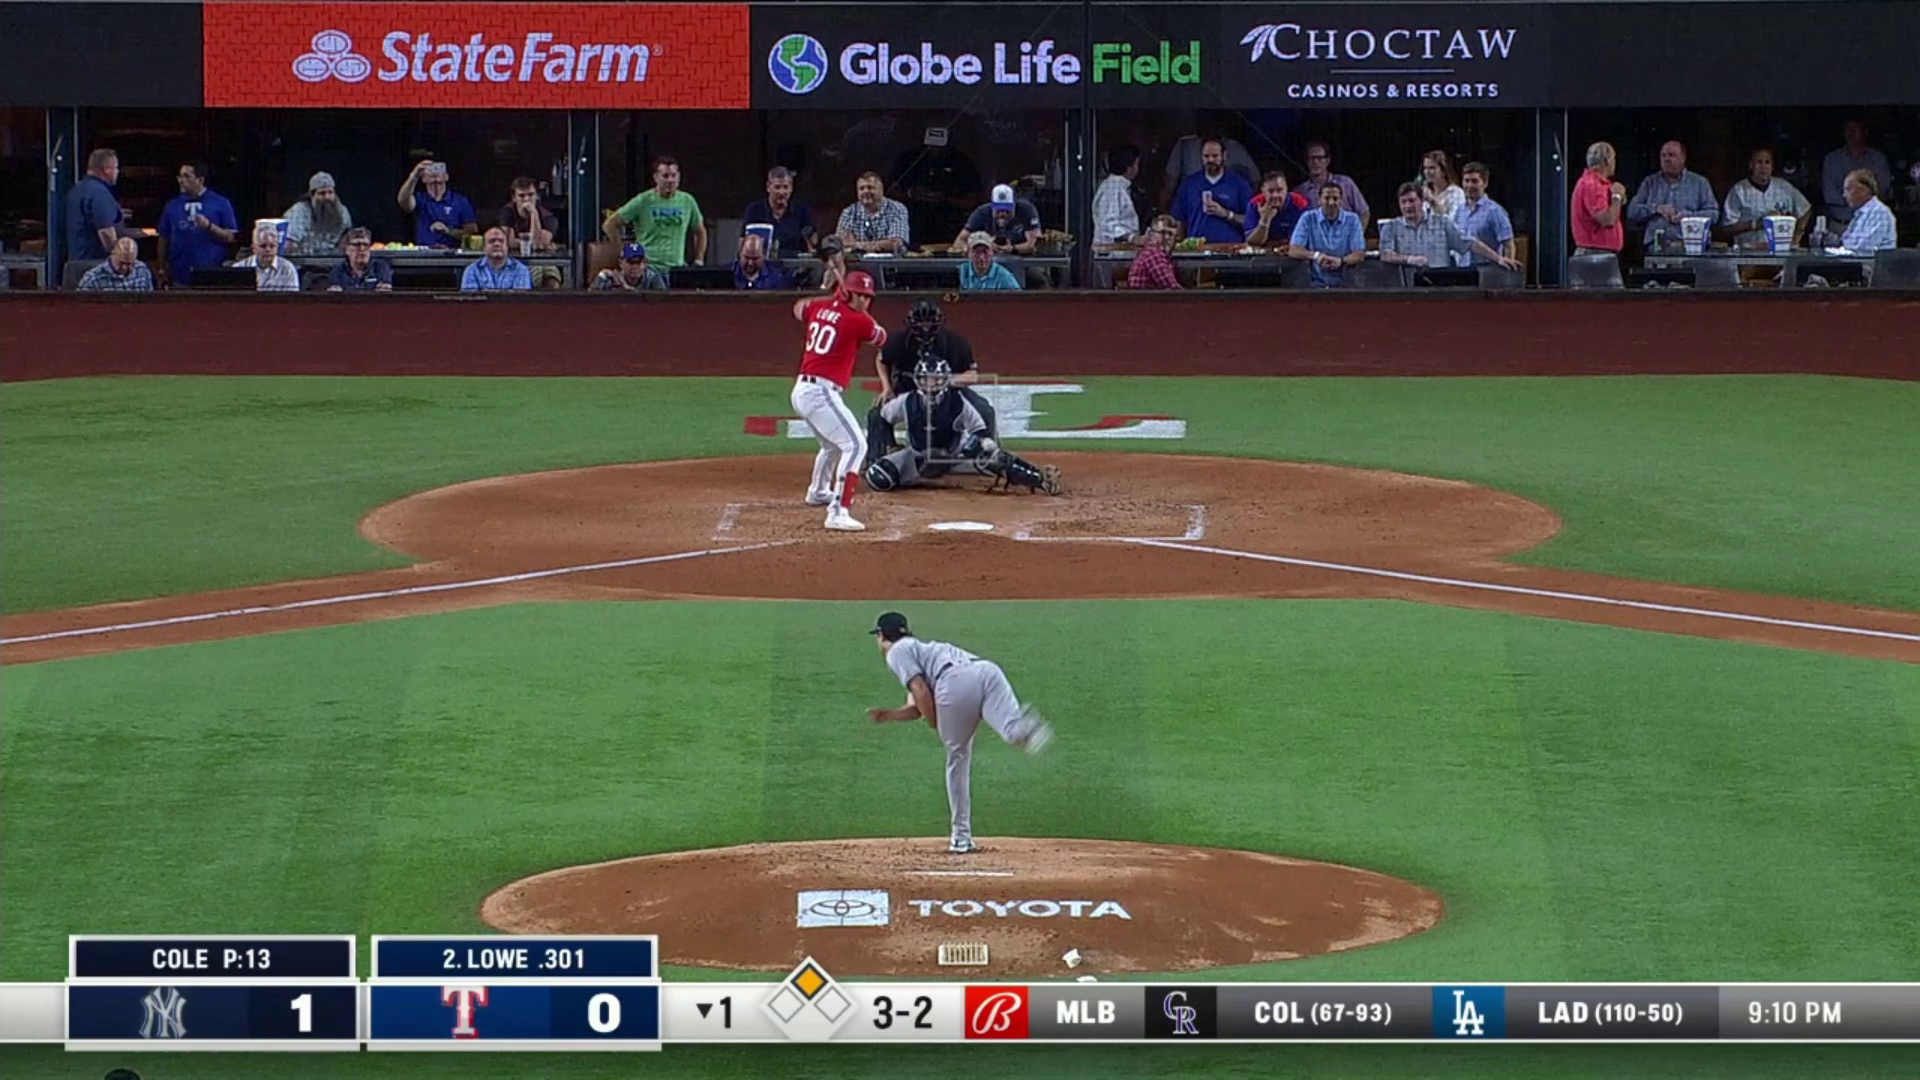baseball: (980, 436, 994, 450)
